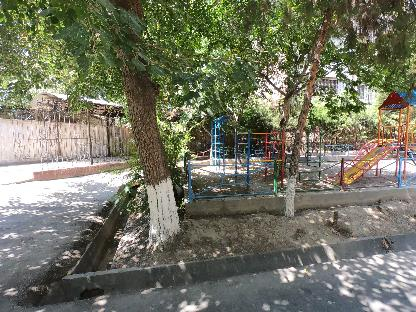tree: (89, 0, 211, 259)
